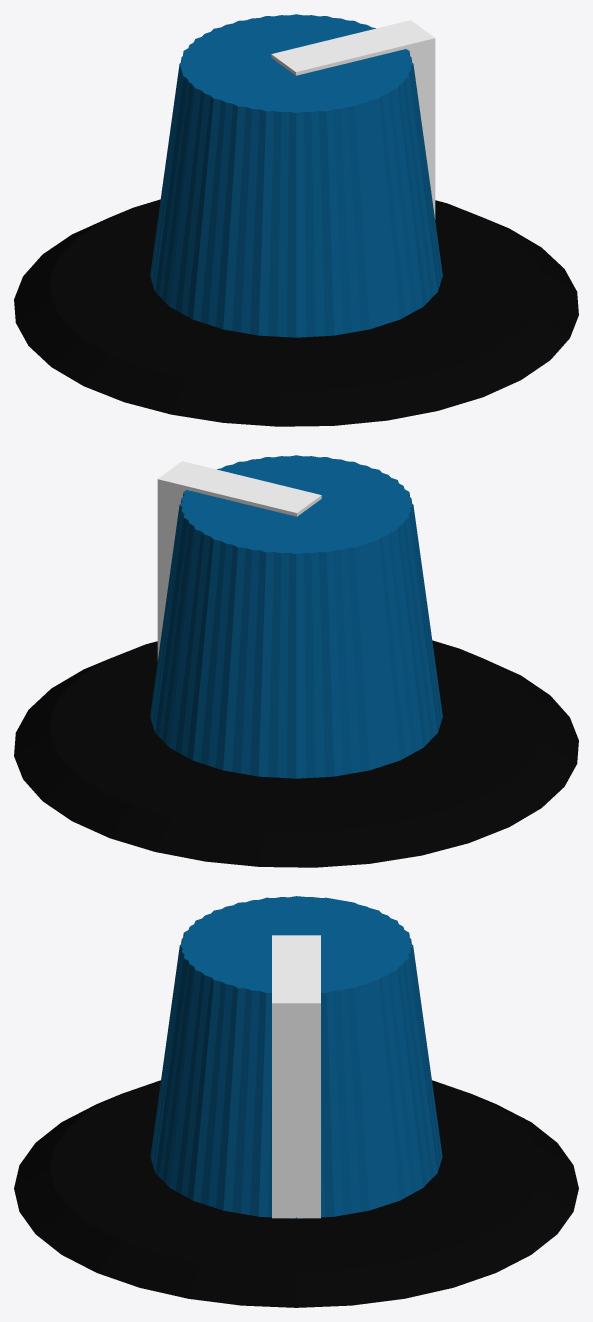
Rendered from props.fbx_reg13.fbx.
The picture shows the model from 3 angles, top to bottom: view 1: azimuth 30°, elevation 25°; view 2: azimuth 150°, elevation 25°; view 3: azimuth 270°, elevation 25°; orthographic projection.
Visible parts, largest first — view 1: Cylinder.019, Circle.041; view 2: Cylinder.019, Circle.041; view 3: Cylinder.019, Circle.041.
Boxes of the visible parts, x1,y1,x2,y2 form: Cylinder.019: (150, 14, 442, 337); Circle.041: (14, 199, 578, 426); Cylinder.019: (150, 455, 442, 778); Circle.041: (14, 640, 578, 867); Cylinder.019: (150, 896, 442, 1218); Circle.041: (14, 1080, 578, 1307).
Bounding box in the file's own units: 0.6411 × 0.309 × 0.6411.
